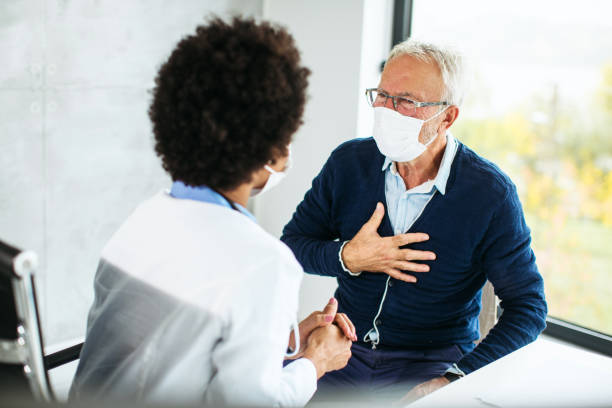with mask: (357, 49, 464, 162)
